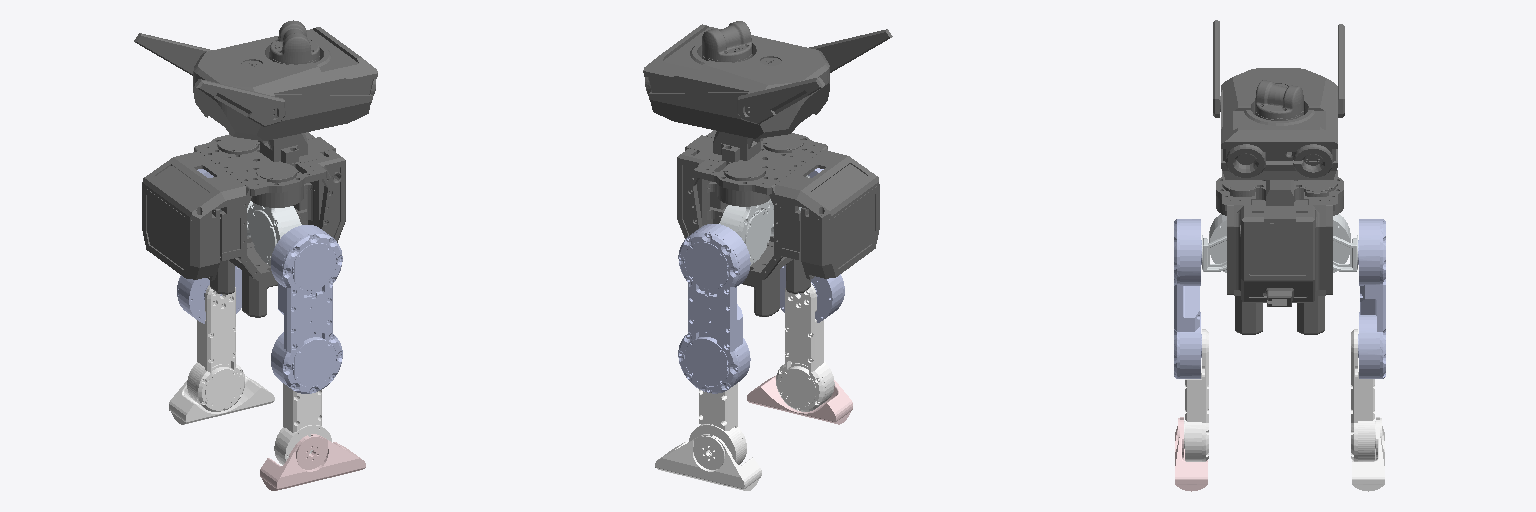
robot.urdf — h1:
<?xml version="1.0" encoding="utf-8"?>
<!-- This URDF was automatically created by SolidWorks to URDF Exporter! Originally created by [author] ([email redacted]) 
     Commit Version: 1.6.0-4-g7f85cfe  Build Version: 1.6.7995.38578
     For more information, please see http://wiki.ros.org/sw_urdf_exporter -->
<robot
  name="h1">
  <mujoco>
    <compiler
    	meshdir="../meshes/"
    	balanceinertia="true"
    	discardvisual="false" />
  </mujoco>
  <link
    name="base_link">
    <inertial>
      <origin
        xyz="0.00 0 0.036"
        rpy="0 0 0" />
      <mass
        value="3" />
      <inertia
        ixx="0.02538"
        ixy="0"
        ixz="0"
        iyy="0.03617"
        iyz="0"
        izz="0.01306" />
    </inertial>
    <visual>
      <origin
        xyz="0 0 0"
        rpy="0 0 0" />
      <geometry>
        <mesh
          filename="../meshes/base_link.STL" />
      </geometry>
      <material
        name="">
        <color
          rgba="0.501960784313725 0.501960784313725 0.501960784313725 1" />
      </material>
    </visual>
    <collision>
      <origin
        xyz="0 0 0"
        rpy="0 0 0" />
      <geometry>
        <mesh
          filename="../meshes/base_link.STL" />
      </geometry>
    </collision>
  </link>
  <link
    name="L0_Link">
    <inertial>
      <origin
        xyz="0.0006 0 -0.0529"
        rpy="0 0 0" />
      <mass
        value="0.587331353457417" />
      <inertia
        ixx="0.0007"
        ixy="0"
        ixz="0"
        iyy="0.0004"
        iyz="0"
        izz="0.0004" />
    </inertial>
    <visual>
      <origin
        xyz="0 0 0"
        rpy="0 0 0" />
      <geometry>
        <mesh
          filename="../meshes/L0_Link.STL" />
      </geometry>
      <material
        name="">
        <color
          rgba="0.898039215686275 0.917647058823529 0.929411764705882 1" />
      </material>
    </visual>
    <collision>
      <origin
        xyz="0 0 0"
        rpy="0 0 0" />
      <geometry>
        <mesh
          filename="../meshes/L0_Link.STL" />
      </geometry>
    </collision>
  </link>
  <joint
    name="J_L0"
    type="revolute">
    <origin
      xyz="-0.002787 0.053542 0.054381"
      rpy="0 0 0" />
    <parent
      link="base_link" />
    <child
      link="L0_Link" />
    <axis
      xyz="0 0 1" />
    <limit
      lower="-0.7"
      upper="0.7"
      effort="12"
      velocity="20" />
  </joint>
  <link
    name="L1_Link">
    <inertial>
      <origin
        xyz="-0.0035 0.0342 -0.0092"
        rpy="0 0 0" />
      <mass
        value="0.0295521887544817" />
      <inertia
        ixx="0.0001"
        ixy="0"
        ixz="0"
        iyy="0.0001"
        iyz="0"
        izz="0.00005" />
    </inertial>
    <visual>
      <origin
        xyz="0 0 0"
        rpy="0 0 0" />
      <geometry>
        <mesh
          filename="../meshes/L1_Link.STL" />
      </geometry>
      <material
        name="">
        <color
          rgba="0.898039215686275 0.917647058823529 0.929411764705882 1" />
      </material>
    </visual>
    <collision>
      <origin
        xyz="0 0 0"
        rpy="0 0 0" />
      <geometry>
        <mesh
          filename="../meshes/L1_Link.STL" />
      </geometry>
    </collision>
  </link>
  <joint
    name="J_L1"
    type="revolute">
    <origin
      xyz="0.016958 0 -0.053917"
      rpy="0 0 0" />
    <parent
      link="L0_Link" />
    <child
      link="L1_Link" />
    <axis
      xyz="-1 0 0" />
    <limit
      lower="-0.38"
      upper="0.46"
      effort="20"
      velocity="20" />
  </joint>
  <link
    name="L2_Link">
    <inertial>
      <origin
        xyz="-0.0008 0.0178 -0.0738"
        rpy="0 0 0" />
      <mass
        value="1.34863094594399" />
      <inertia
        ixx="0.0075"
        ixy="0"
        ixz="0"
        iyy="0.0082"
        iyz="0"
        izz="0.0009" />
    </inertial>
    <visual>
      <origin
        xyz="0 0 0"
        rpy="0 0 0" />
      <geometry>
        <mesh
          filename="../meshes/L2_Link.STL" />
      </geometry>
      <material
        name="">
        <color
          rgba="0.792156862745098 0.819607843137255 0.933333333333333 1" />
      </material>
    </visual>
    <collision>
      <origin
        xyz="0 0 0"
        rpy="0 0 0" />
      <geometry>
        <mesh
          filename="../meshes/L2_Link.STL" />
      </geometry>
    </collision>
  </link>
  <joint
    name="J_L2"
    type="revolute">
    <origin
      xyz="-0.012958 0.059001 -0.014313"
      rpy="0 0 0" />
    <parent
      link="L1_Link" />
    <child
      link="L2_Link" />
    <axis
      xyz="0 1 0" />
    <limit
      lower="-1.57"
      upper="1.57"
      effort="20"
      velocity="20" />
  </joint>
  <link
    name="L3_Link">
    <inertial>
      <origin
        xyz="0 0.008 -0.122"
        rpy="0 0 0" />
      <mass
        value="0.629727076499127" />
      <inertia
        ixx="0.0012"
        ixy="0"
        ixz="0"
        iyy="0.0013"
        iyz="0"
        izz="0.0002" />
    </inertial>
    <visual>
      <origin
        xyz="0 0 0"
        rpy="0 0 0" />
      <geometry>
        <mesh
          filename="../meshes/L3_Link.STL" />
      </geometry>
      <material
        name="">
        <color
          rgba="1 1 1 1" />
      </material>
    </visual>
    <collision>
      <origin
        xyz="0 0 0"
        rpy="0 0 0" />
      <geometry>
        <mesh
          filename="../meshes/L3_Link.STL" />
      </geometry>
    </collision>
  </link>
  <joint
    name="J_L3"
    type="revolute">
    <origin
      xyz="0 0 -0.14738"
      rpy="0 0 0" />
    <parent
      link="L2_Link" />
    <child
      link="L3_Link" />
    <axis
      xyz="0 1 0" />
    <limit
      lower="-2.35"
      upper="0.0"
      effort="20"
      velocity="20" />
  </joint>
  <link
    name="L4_Link_ankle">
    <inertial>
      <origin
        xyz="0.0118 -0.0068 -0.0296"
        rpy="0 0 0" />
      <mass
        value="0.171742682777178" />
      <inertia
        ixx="0.0001"
        ixy="0"
        ixz="0"
        iyy="0.0003"
        iyz="0"
        izz="0.0003" />
    </inertial>
    <visual>
      <origin
        xyz="0 0 0"
        rpy="0 0 0" />
      <geometry>
        <mesh
          filename="../meshes/L4_Link_ankle.STL" />
      </geometry>
      <material
        name="">
        <color
          rgba="1 1 1 1" />
      </material>
    </visual>
    <collision>
      <origin
        xyz="0 0 0"
        rpy="0 0 0" />
      <geometry>
        <mesh
          filename="../meshes/L4_Link_ankle.STL" />
      </geometry>
    </collision>
  </link>
  <joint
    name="J_L4_ankle"
    type="revolute">
    <origin
      xyz="0 0.025 -0.14049"
      rpy="0 0 0" />
    <parent
      link="L3_Link" />
    <child
      link="L4_Link_ankle" />
    <axis
      xyz="0 -1 0" />
    <limit
      lower="-1.2"
      upper="1.2"
      effort="12"
      velocity="20" />
  </joint>
  <link
    name="R0_Link">
    <inertial>
      <origin
        xyz="0 -0.0001 -0.0512"
        rpy="0 0 0" />
      <mass
        value="0.587331353381893" />
      <inertia
        ixx="0.0008"
        ixy="0"
        ixz="0"
        iyy="0.0005"
        iyz="0"
        izz="0.0004" />
    </inertial>
    <visual>
      <origin
        xyz="0 0 0"
        rpy="0 0 0" />
      <geometry>
        <mesh
          filename="../meshes/R0_Link.STL" />
      </geometry>
      <material
        name="">
        <color
          rgba="0.898039215686275 0.917647058823529 0.929411764705882 1" />
      </material>
    </visual>
    <collision>
      <origin
        xyz="0 0 0"
        rpy="0 0 0" />
      <geometry>
        <mesh
          filename="../meshes/R0_Link.STL" />
      </geometry>
    </collision>
  </link>
  <joint
    name="J_R0"
    type="revolute">
    <origin
      xyz="-0.002787 -0.053184 0.054381"
      rpy="0 0 0" />
    <parent
      link="base_link" />
    <child
      link="R0_Link" />
    <axis
      xyz="0 0 1" />
    <limit
      lower="-0.7"
      upper="0.7"
      effort="12"
      velocity="20" />
  </joint>
  <link
    name="R1_Link">
    <inertial>
      <origin
        xyz="-0.0035 -0.0342 -0.0092"
        rpy="0 0 0" />
      <mass
        value="0.029551251476222" />
      <inertia
        ixx="0.0001"
        ixy="0"
        ixz="0"
        iyy="0.0001"
        iyz="0"
        izz="0.00005" />
    </inertial>
    <visual>
      <origin
        xyz="0 0 0"
        rpy="0 0 0" />
      <geometry>
        <mesh
          filename="../meshes/R1_Link.STL" />
      </geometry>
      <material
        name="">
        <color
          rgba="0.898039215686275 0.917647058823529 0.929411764705882 1" />
      </material>
    </visual>
    <collision>
      <origin
        xyz="0 0 0"
        rpy="0 0 0" />
      <geometry>
        <mesh
          filename="../meshes/R1_Link.STL" />
      </geometry>
    </collision>
  </link>
  <joint
    name="J_R1"
    type="revolute">
    <origin
      xyz="0.016958 0 -0.053917"
      rpy="0 0 0" />
    <parent
      link="R0_Link" />
    <child
      link="R1_Link" />
    <axis
      xyz="-1 0 0" />
    <limit
      lower="-0.38"
      upper="0.47"
      effort="20"
      velocity="20" />
  </joint>
  <link
    name="R2_Link">
    <inertial>
      <origin
        xyz="-0.0008 -0.0178 -0.0737"
        rpy="0 0 0" />
      <mass
        value="1.35023891621348" />
      <inertia
        ixx="0.0075"
        ixy="0"
        ixz="0"
        iyy="0.0082"
        iyz="0"
        izz="0.001" />
    </inertial>
    <visual>
      <origin
        xyz="0 0 0"
        rpy="0 0 0" />
      <geometry>
        <mesh
          filename="../meshes/R2_Link.STL" />
      </geometry>
      <material
        name="">
        <color
          rgba="0.792156862745098 0.819607843137255 0.933333333333333 1" />
      </material>
    </visual>
    <collision>
      <origin
        xyz="0 0 0"
        rpy="0 0 0" />
      <geometry>
        <mesh
          filename="../meshes/R2_Link.STL" />
      </geometry>
    </collision>
  </link>
  <joint
    name="J_R2"
    type="revolute">
    <origin
      xyz="-0.012958 -0.059 -0.014313"
      rpy="0 0 0" />
    <parent
      link="R1_Link" />
    <child
      link="R2_Link" />
    <axis
      xyz="0 -1 0" />
    <limit
      lower="-1.57"
      upper="1.57"
      effort="20"
      velocity="20" />
  </joint>
  <link
    name="R3_Link">
    <inertial>
      <origin
        xyz="0 -0.0073 -0.1176"
        rpy="0 0 0" />
      <mass
        value="0.511661896307101" />
      <inertia
        ixx="0.0011"
        ixy="0"
        ixz="0"
        iyy="0.0012"
        iyz="0"
        izz="0.0002" />
    </inertial>
    <visual>
      <origin
        xyz="0 0 0"
        rpy="0 0 0" />
      <geometry>
        <mesh
          filename="../meshes/R3_Link.STL" />
      </geometry>
      <material
        name="">
        <color
          rgba="1 1 1 1" />
      </material>
    </visual>
    <collision>
      <origin
        xyz="0 0 0"
        rpy="0 0 0" />
      <geometry>
        <mesh
          filename="../meshes/R3_Link.STL" />
      </geometry>
    </collision>
  </link>
  <joint
    name="J_R3"
    type="revolute">
    <origin
      xyz="0 0 -0.14738"
      rpy="0 0 0" />
    <parent
      link="R2_Link" />
    <child
      link="R3_Link" />
    <axis
      xyz="0 -1 0" />
    <limit
      lower="0"
      upper="2.35"
      effort="20"
      velocity="20" />
  </joint>
  <link
    name="R4_Link_ankle">
    <inertial>
      <origin
        xyz="0.0118 0.0067 -0.0296"
        rpy="0 0 0" />
      <mass
        value="0.17174" />
      <inertia
        ixx="0.0001"
        ixy="0"
        ixz="0"
        iyy="0.0003"
        iyz="0"
        izz="0.0003" />
    </inertial>
    <visual>
      <origin
        xyz="0 0 0"
        rpy="0 0 0" />
      <geometry>
        <mesh
          filename="../meshes/R4_Link_ankle.STL" />
      </geometry>
      <material
        name="">
        <color
          rgba="1 0.90588 0.91765 1" />
      </material>
    </visual>
    <collision>
      <origin
        xyz="0 0 0"
        rpy="0 0 0" />
      <geometry>
        <mesh
          filename="../meshes/R4_Link_ankle.STL" />
      </geometry>
    </collision>
  </link>
  <joint
    name="J_R4_ankle"
    type="revolute">
    <origin
      xyz="0 -0.025 -0.14049"
      rpy="0 0 0" />
    <parent
      link="R3_Link" />
    <child
      link="R4_Link_ankle" />
    <axis
      xyz="0 1 0" />
    <limit
      lower="-1.2"
      upper="1.2"
      effort="12"
      velocity="20" />
  </joint>
</robot>

--- Facts derived from the render (not from the file) ---
3 views of the same robot in one strip: view 1: azimuth 30°, elevation 25°; view 2: azimuth 150°, elevation 25°; view 3: azimuth 270°, elevation 25° (orthographic).
Robot: h1 — 11 links, 10 joints (10 revolute); root link base_link; default pose: every joint at zero.
Links seen in each view (by area): view 1: base_link, R2_Link, L3_Link, R4_Link_ankle, R3_Link, R0_Link, L4_Link_ankle, L2_Link; view 2: base_link, L2_Link, R3_Link, L4_Link_ankle, L3_Link, L0_Link, R4_Link_ankle, R2_Link; view 3: base_link, L2_Link, R2_Link, L3_Link, R3_Link, L4_Link_ankle, R4_Link_ankle, R0_Link, L0_Link, L1_Link, R1_Link.
Boxes of the visible links, left/top/right/bottom form: base_link: left=134, top=20, right=377, bottom=317; R2_Link: left=271, top=225, right=342, bottom=393; L3_Link: left=187, top=285, right=244, bottom=411; R4_Link_ankle: left=260, top=434, right=365, bottom=490; R3_Link: left=274, top=383, right=331, bottom=464; R0_Link: left=247, top=203, right=300, bottom=265; L4_Link_ankle: left=169, top=376, right=274, bottom=424; L2_Link: left=177, top=169, right=241, bottom=323; base_link: left=643, top=21, right=892, bottom=316; L2_Link: left=678, top=224, right=750, bottom=393; R3_Link: left=776, top=283, right=834, bottom=411; L4_Link_ankle: left=655, top=434, right=761, bottom=490; L3_Link: left=689, top=383, right=746, bottom=464; L0_Link: left=720, top=202, right=773, bottom=265; R4_Link_ankle: left=747, top=375, right=852, bottom=424; R2_Link: left=780, top=168, right=844, bottom=322; base_link: left=1213, top=20, right=1344, bottom=334; L2_Link: left=1358, top=219, right=1385, bottom=378; R2_Link: left=1174, top=219, right=1201, bottom=378; L3_Link: left=1351, top=329, right=1375, bottom=461; R3_Link: left=1184, top=329, right=1208, bottom=461; L4_Link_ankle: left=1352, top=417, right=1384, bottom=491; R4_Link_ankle: left=1175, top=417, right=1207, bottom=491; R0_Link: left=1209, top=214, right=1226, bottom=272; L0_Link: left=1333, top=214, right=1350, bottom=272; L1_Link: left=1333, top=235, right=1357, bottom=271; R1_Link: left=1202, top=235, right=1226, bottom=271.
Size in the robot's own frame: 0.3044 by 0.3037 by 0.6355 metres.
11 mesh visuals loaded from 11 distinct referenced files (11 binary STL).